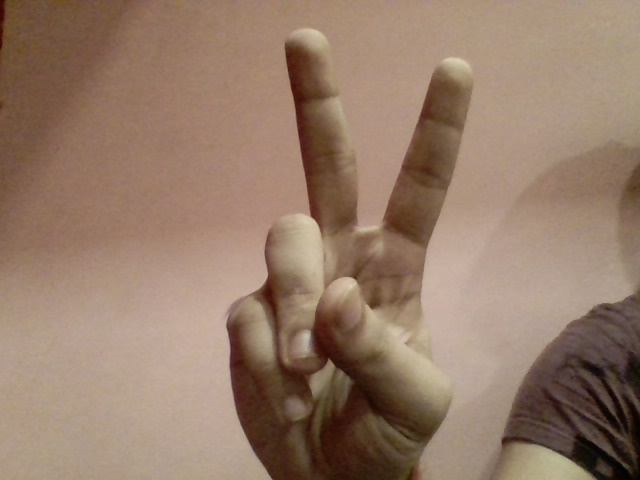v: (199, 21, 487, 467)
